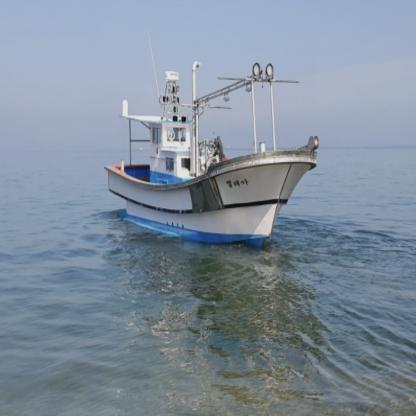fish-b: (108, 43, 324, 267)
